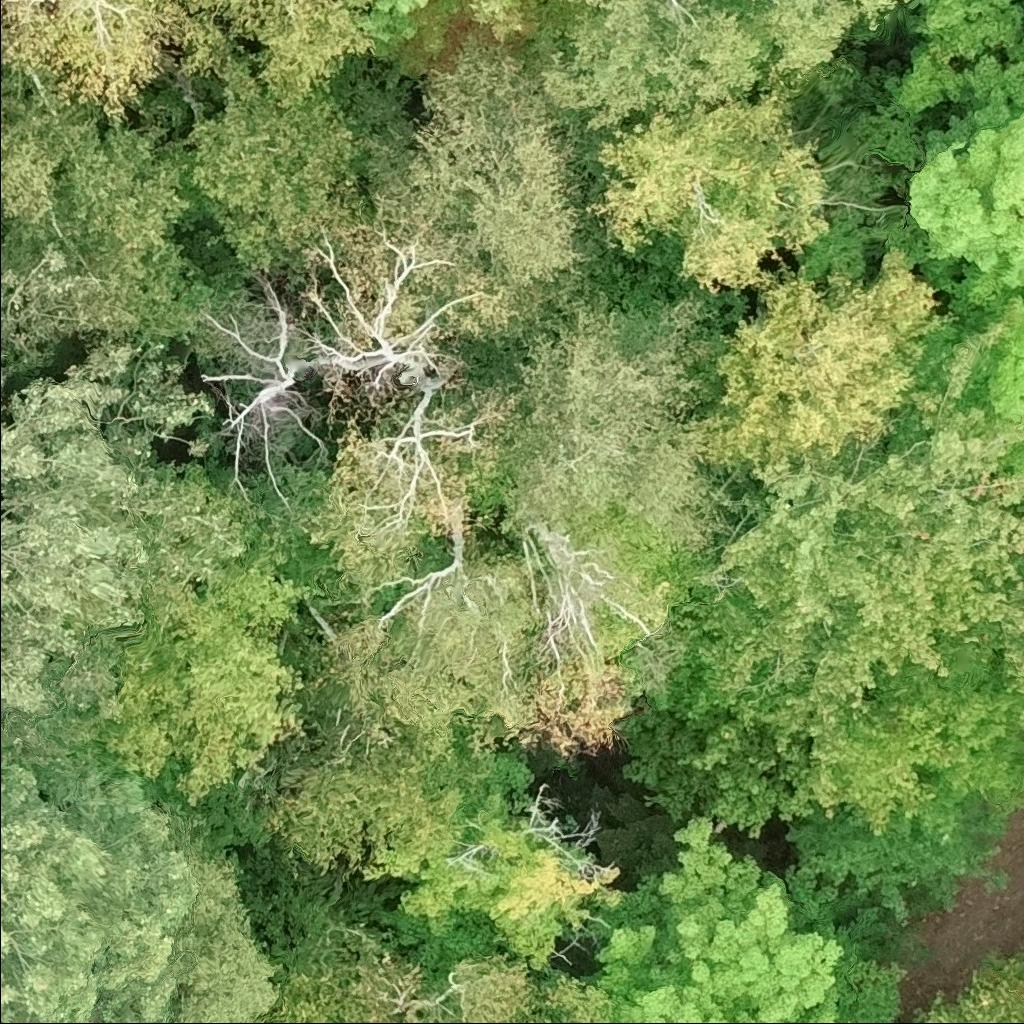crown: (668, 320, 1023, 819), (0, 245, 273, 782), (782, 621, 1023, 927), (73, 531, 328, 810), (498, 287, 757, 557), (705, 245, 967, 479), (586, 814, 856, 1023), (575, 78, 832, 295), (0, 751, 205, 1023), (298, 553, 551, 770), (364, 791, 630, 991), (407, 33, 612, 289), (0, 117, 216, 347), (305, 381, 522, 606), (258, 715, 539, 882), (539, 0, 859, 140), (175, 74, 370, 280), (0, 0, 263, 119), (904, 108, 1023, 322), (182, 0, 374, 108), (341, 924, 546, 1023), (0, 72, 111, 232), (390, 0, 580, 82), (263, 903, 371, 1023), (957, 288, 1023, 420), (909, 948, 1023, 1023), (522, 976, 620, 1023), (361, 0, 431, 64), (991, 581, 1023, 690), (854, 0, 908, 35), (1001, 442, 1023, 472), (1016, 557, 1023, 586), (1015, 502, 1023, 516)
